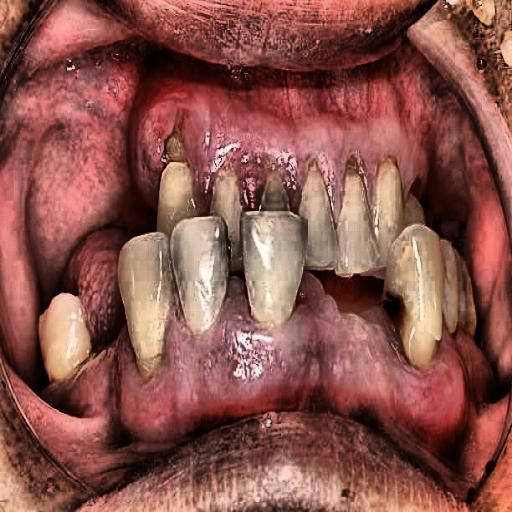Gingivitis: (120, 48, 430, 178), (306, 271, 512, 448), (104, 293, 340, 414)
